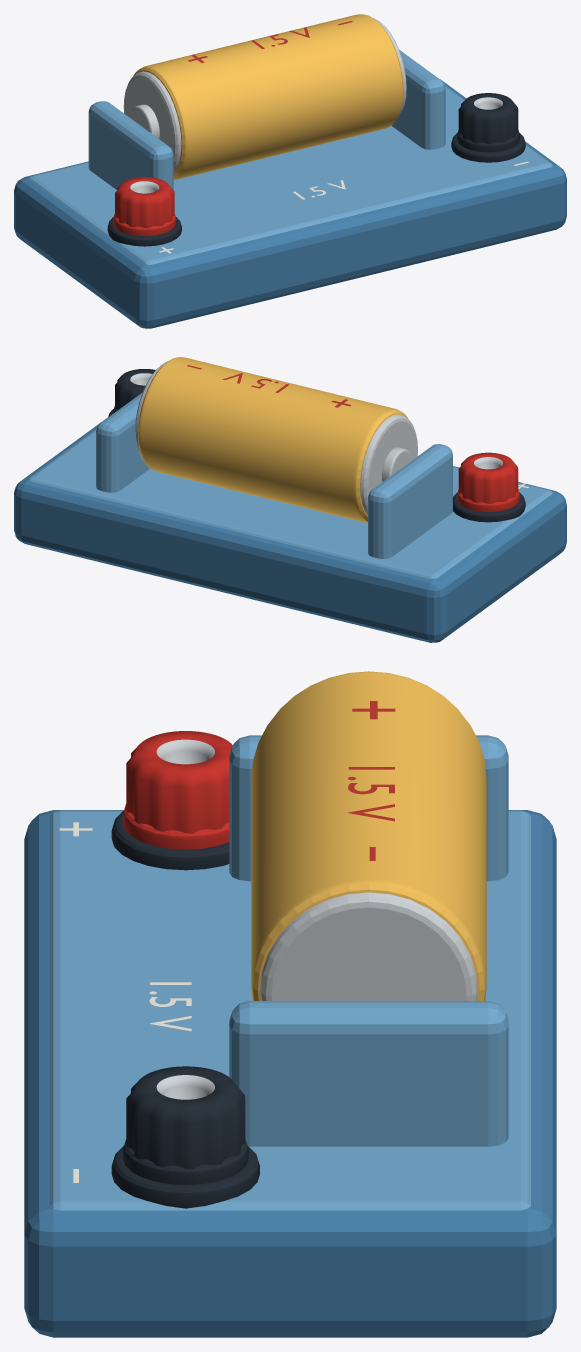
File: battery-single.glb
3 views of the same model, one above another, from view 1: azimuth 30°, elevation 25°; view 2: azimuth 150°, elevation 25°; view 3: azimuth 270°, elevation 25° (orthographic). The views are drawn at different scales.
Parts seen in each view (by area): view 1: Molded battery cradle, Top shoulder, Dry cell sleeve, Upright cell holder, Upright cell holder.001, n binding socket, p binding socket, Cell end cap, p socket washer, n socket washer, p socket foot, n socket foot (+1 smaller); view 2: Molded battery cradle, Dry cell sleeve, Top shoulder, Upright cell holder, Upright cell holder.001, p binding socket, Cell end cap, n binding socket, p socket washer, p socket foot, Cell positive button; view 3: Molded battery cradle, Top shoulder, Dry cell sleeve, Upright cell holder.001, Cell end cap.001, n binding socket, p binding socket, Upright cell holder, n socket washer, p socket washer, n socket foot, p socket foot.
Boxes of the visible parts, bbox=[...] form: Molded battery cradle: bbox=[14, 79, 566, 328]; Top shoulder: bbox=[28, 86, 552, 264]; Dry cell sleeve: bbox=[133, 14, 403, 180]; Upright cell holder: bbox=[88, 101, 173, 189]; Upright cell holder.001: bbox=[391, 50, 445, 149]; n binding socket: bbox=[458, 93, 518, 144]; p binding socket: bbox=[115, 177, 174, 228]; Cell end cap: bbox=[123, 71, 181, 172]; p socket washer: bbox=[107, 217, 181, 246]; n socket washer: bbox=[451, 133, 525, 162]; p socket foot: bbox=[113, 214, 176, 236]; n socket foot: bbox=[457, 130, 519, 152]; Molded battery cradle: bbox=[14, 417, 566, 642]; Dry cell sleeve: bbox=[138, 357, 408, 522]; Top shoulder: bbox=[28, 429, 552, 578]; Upright cell holder: bbox=[368, 444, 452, 558]; Upright cell holder.001: bbox=[96, 392, 149, 492]; p binding socket: bbox=[458, 452, 518, 503]; Cell end cap: bbox=[360, 414, 417, 515]; n binding socket: bbox=[115, 369, 155, 409]; p socket washer: bbox=[453, 492, 525, 522]; p socket foot: bbox=[457, 489, 519, 511]; Cell positive button: bbox=[382, 447, 411, 481]; Molded battery cradle: bbox=[24, 810, 556, 1337]; Top shoulder: bbox=[50, 810, 530, 1210]; Dry cell sleeve: bbox=[251, 671, 486, 1000]; Upright cell holder.001: bbox=[229, 1001, 508, 1146]; Cell end cap.001: bbox=[260, 892, 477, 1000]; n binding socket: bbox=[126, 1066, 245, 1168]; p binding socket: bbox=[126, 731, 232, 833]; Upright cell holder: bbox=[229, 735, 508, 881]; n socket washer: bbox=[111, 1146, 259, 1208]; p socket washer: bbox=[111, 810, 229, 870]; n socket foot: bbox=[123, 1139, 248, 1184]; p socket foot: bbox=[123, 804, 229, 849].
Bounding box in the file's own units: 0.114 × 0.0466 × 0.061.
